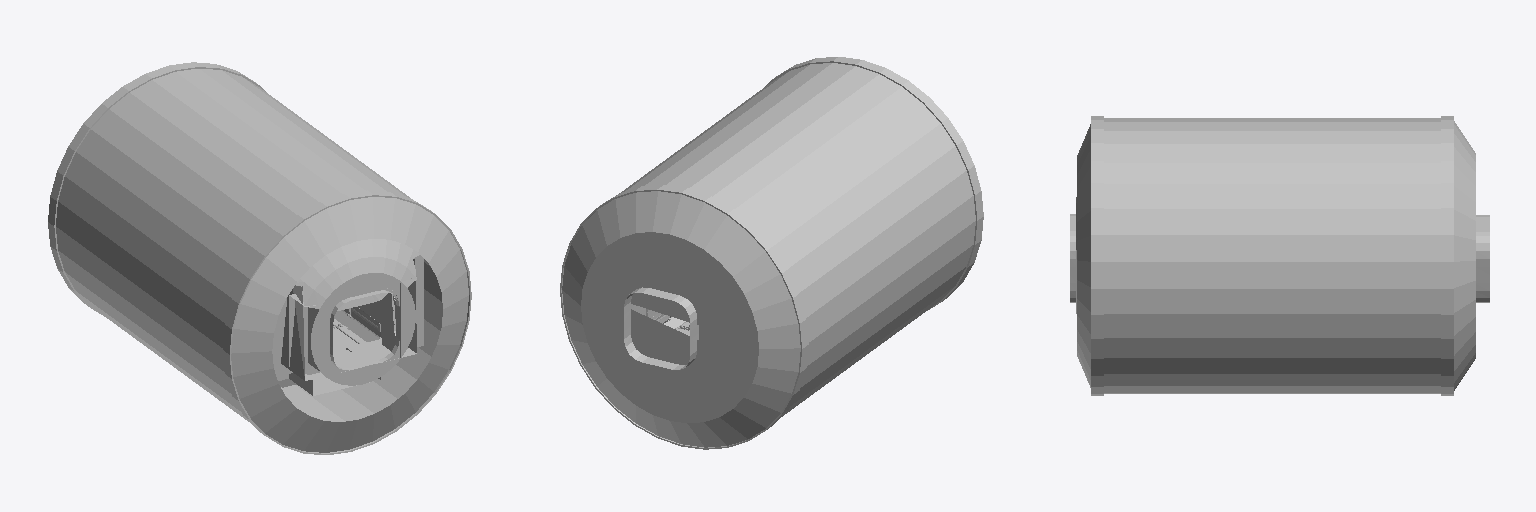
The model's file is elongated.obj.
3 views of the same model, side by side, from view 1: azimuth 30°, elevation 25°; view 2: azimuth 150°, elevation 25°; view 3: azimuth 270°, elevation 25° (orthographic).
Visible parts, largest first — view 1: OuterShield_OneHatch.003, Columbus_CollapsedForUnity.Port.001, Columbus_CollapsedForUnity.Forward, Columbus_CollapsedForUnity.Nadir; view 2: OuterShield_OneHatch.003, Module_Connect.004; view 3: OuterShield_OneHatch.003, Module_Connect.004, Columbus_CollapsedForUnity.Port.001.
Boxes of the visible parts, x1=… form: OuterShield_OneHatch.003: x1=48, y1=62, x2=471, y2=454; Columbus_CollapsedForUnity.Port.001: x1=272, y1=239, x2=423, y2=395; Columbus_CollapsedForUnity.Forward: x1=334, y1=300, x2=381, y2=341; Columbus_CollapsedForUnity.Nadir: x1=333, y1=319, x2=366, y2=352; OuterShield_OneHatch.003: x1=560, y1=57, x2=983, y2=449; Module_Connect.004: x1=624, y1=287, x2=697, y2=369; OuterShield_OneHatch.003: x1=1077, y1=116, x2=1475, y2=395; Module_Connect.004: x1=1476, y1=215, x2=1489, y2=302; Columbus_CollapsedForUnity.Port.001: x1=1070, y1=197, x2=1076, y2=313.
Size of the model in its own units: 46.45 by 46.45 by 69.73.